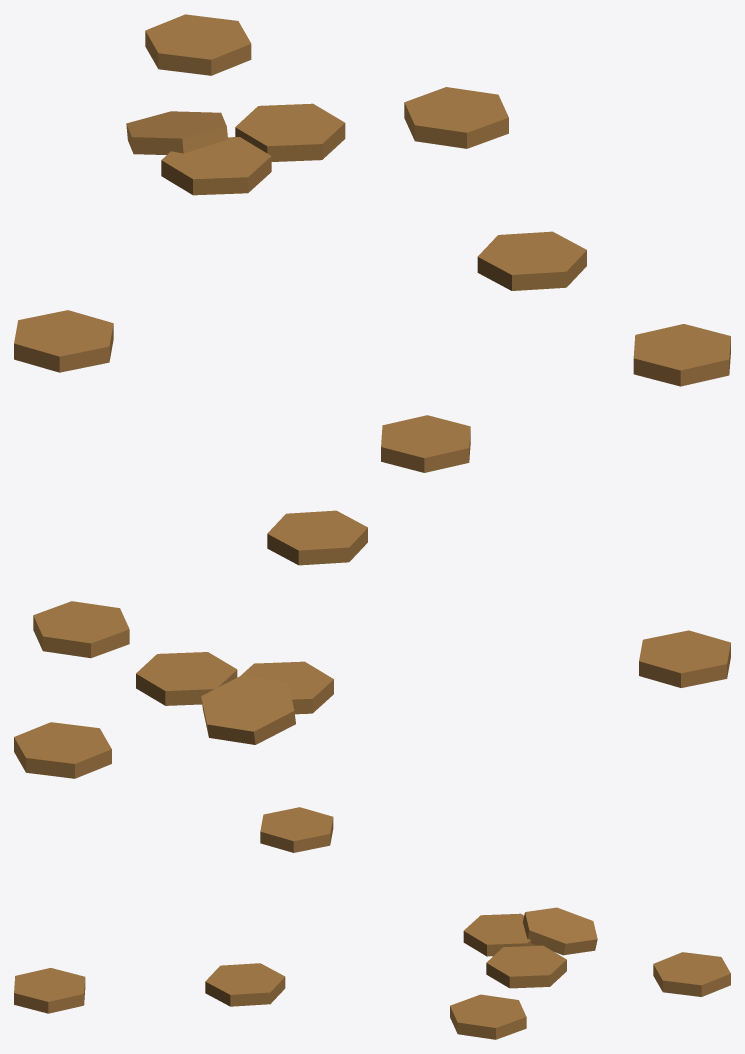
The model's file is SM_Item_Coins_03.glb.
3 renders of one model, top to bottom at view 1: azimuth 30°, elevation 25°; view 2: azimuth 150°, elevation 25°; view 3: azimuth 270°, elevation 25°, orthographic. The views are drawn at different scales.
Parts seen in each view (by area): view 1: SM_Item_Coins_03; view 2: SM_Item_Coins_03; view 3: SM_Item_Coins_03.
Part boxes in pixels (left/top/right/bottom): SM_Item_Coins_03: left=14, top=14, right=730, bottom=386; SM_Item_Coins_03: left=14, top=415, right=730, bottom=778; SM_Item_Coins_03: left=14, top=807, right=730, bottom=1039.
Bounding box in the file's own units: 0.00548 × 0.000289 × 0.00752.
